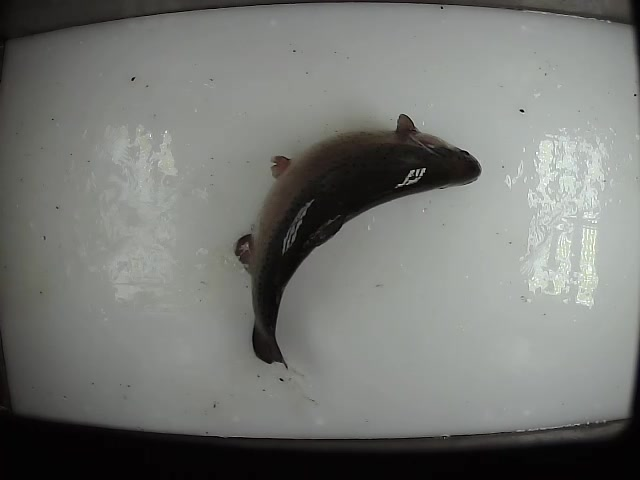Fish: (236, 114, 481, 367)
